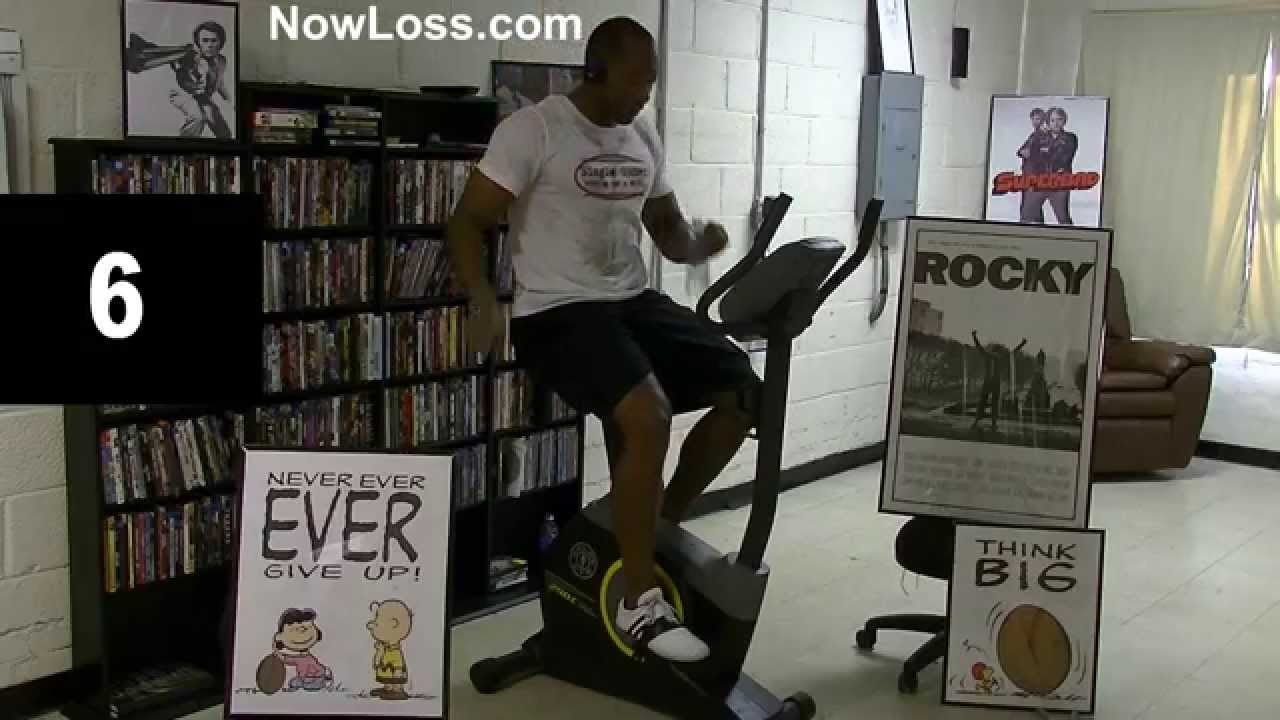gym_bike: (504, 184, 878, 720)
